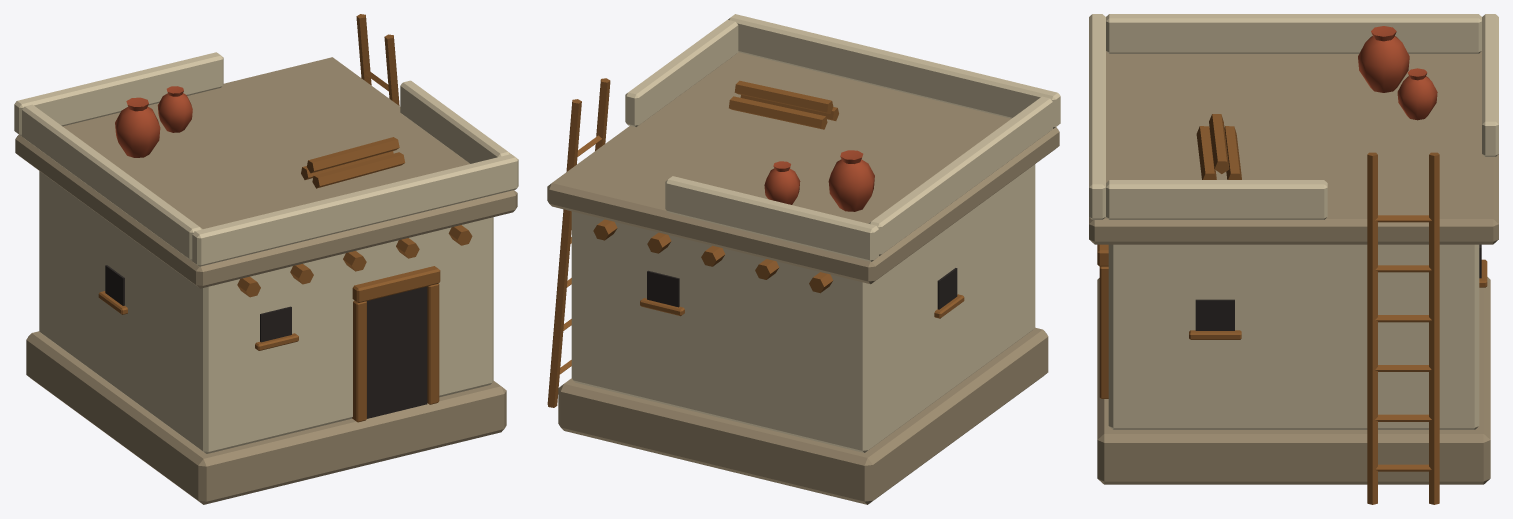
File: house.glb
The picture shows the model from 3 angles, left to right: view 1: azimuth 30°, elevation 25°; view 2: azimuth 150°, elevation 25°; view 3: azimuth 270°, elevation 25°; orthographic projection. The views are drawn at different scales.
Parts seen in each view (by area): view 1: house; view 2: house; view 3: house.
Boxes of the visible parts, x1,y1,x2,y2 form: house: (14,14,518,504); house: (547,14,1060,504); house: (1089,14,1498,504).
Size of the model in its own units: 0.79 by 0.6615 by 0.73.
